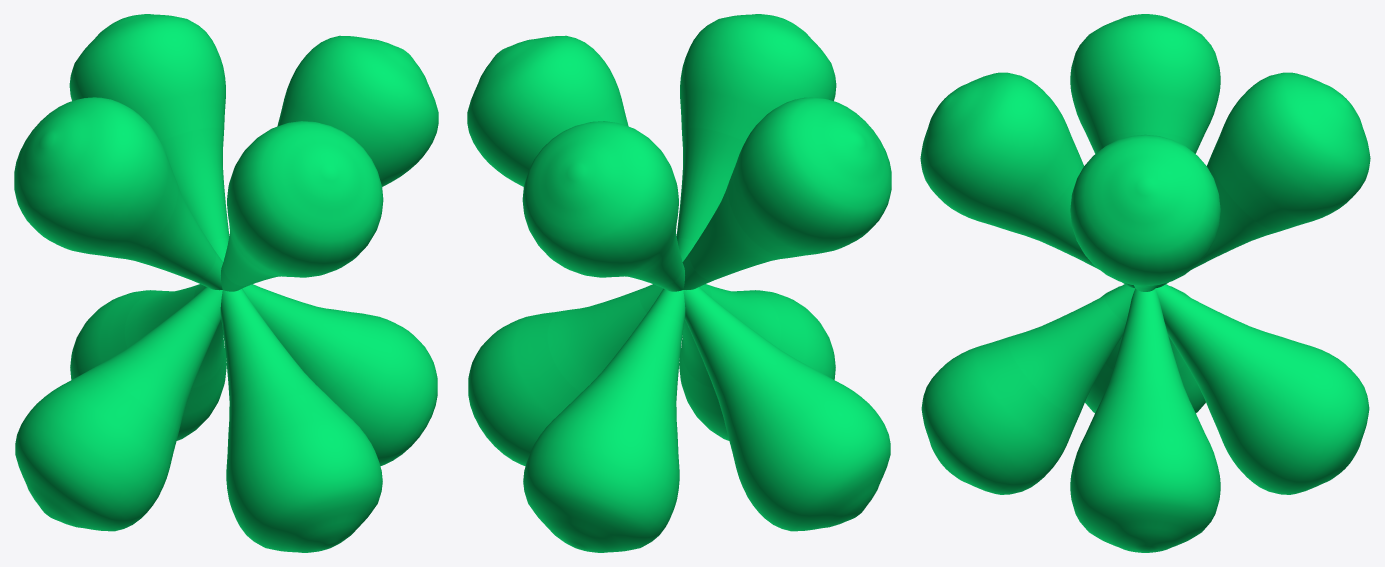
File: orbital_F_4.fbx
The picture shows the model from 3 angles, left to right: view 1: azimuth 30°, elevation 25°; view 2: azimuth 150°, elevation 25°; view 3: azimuth 270°, elevation 25°; orthographic projection. The views are drawn at different scales.
Visible parts, largest first — view 1: Torus; view 2: Torus; view 3: Torus.
Boxes of the visible parts, <box> form: Torus: <box>14,14,438,552</box>; Torus: <box>467,14,891,552</box>; Torus: <box>920,14,1370,552</box>.
Bounding box in the file's own units: 11.95 × 11.92 × 11.95.
